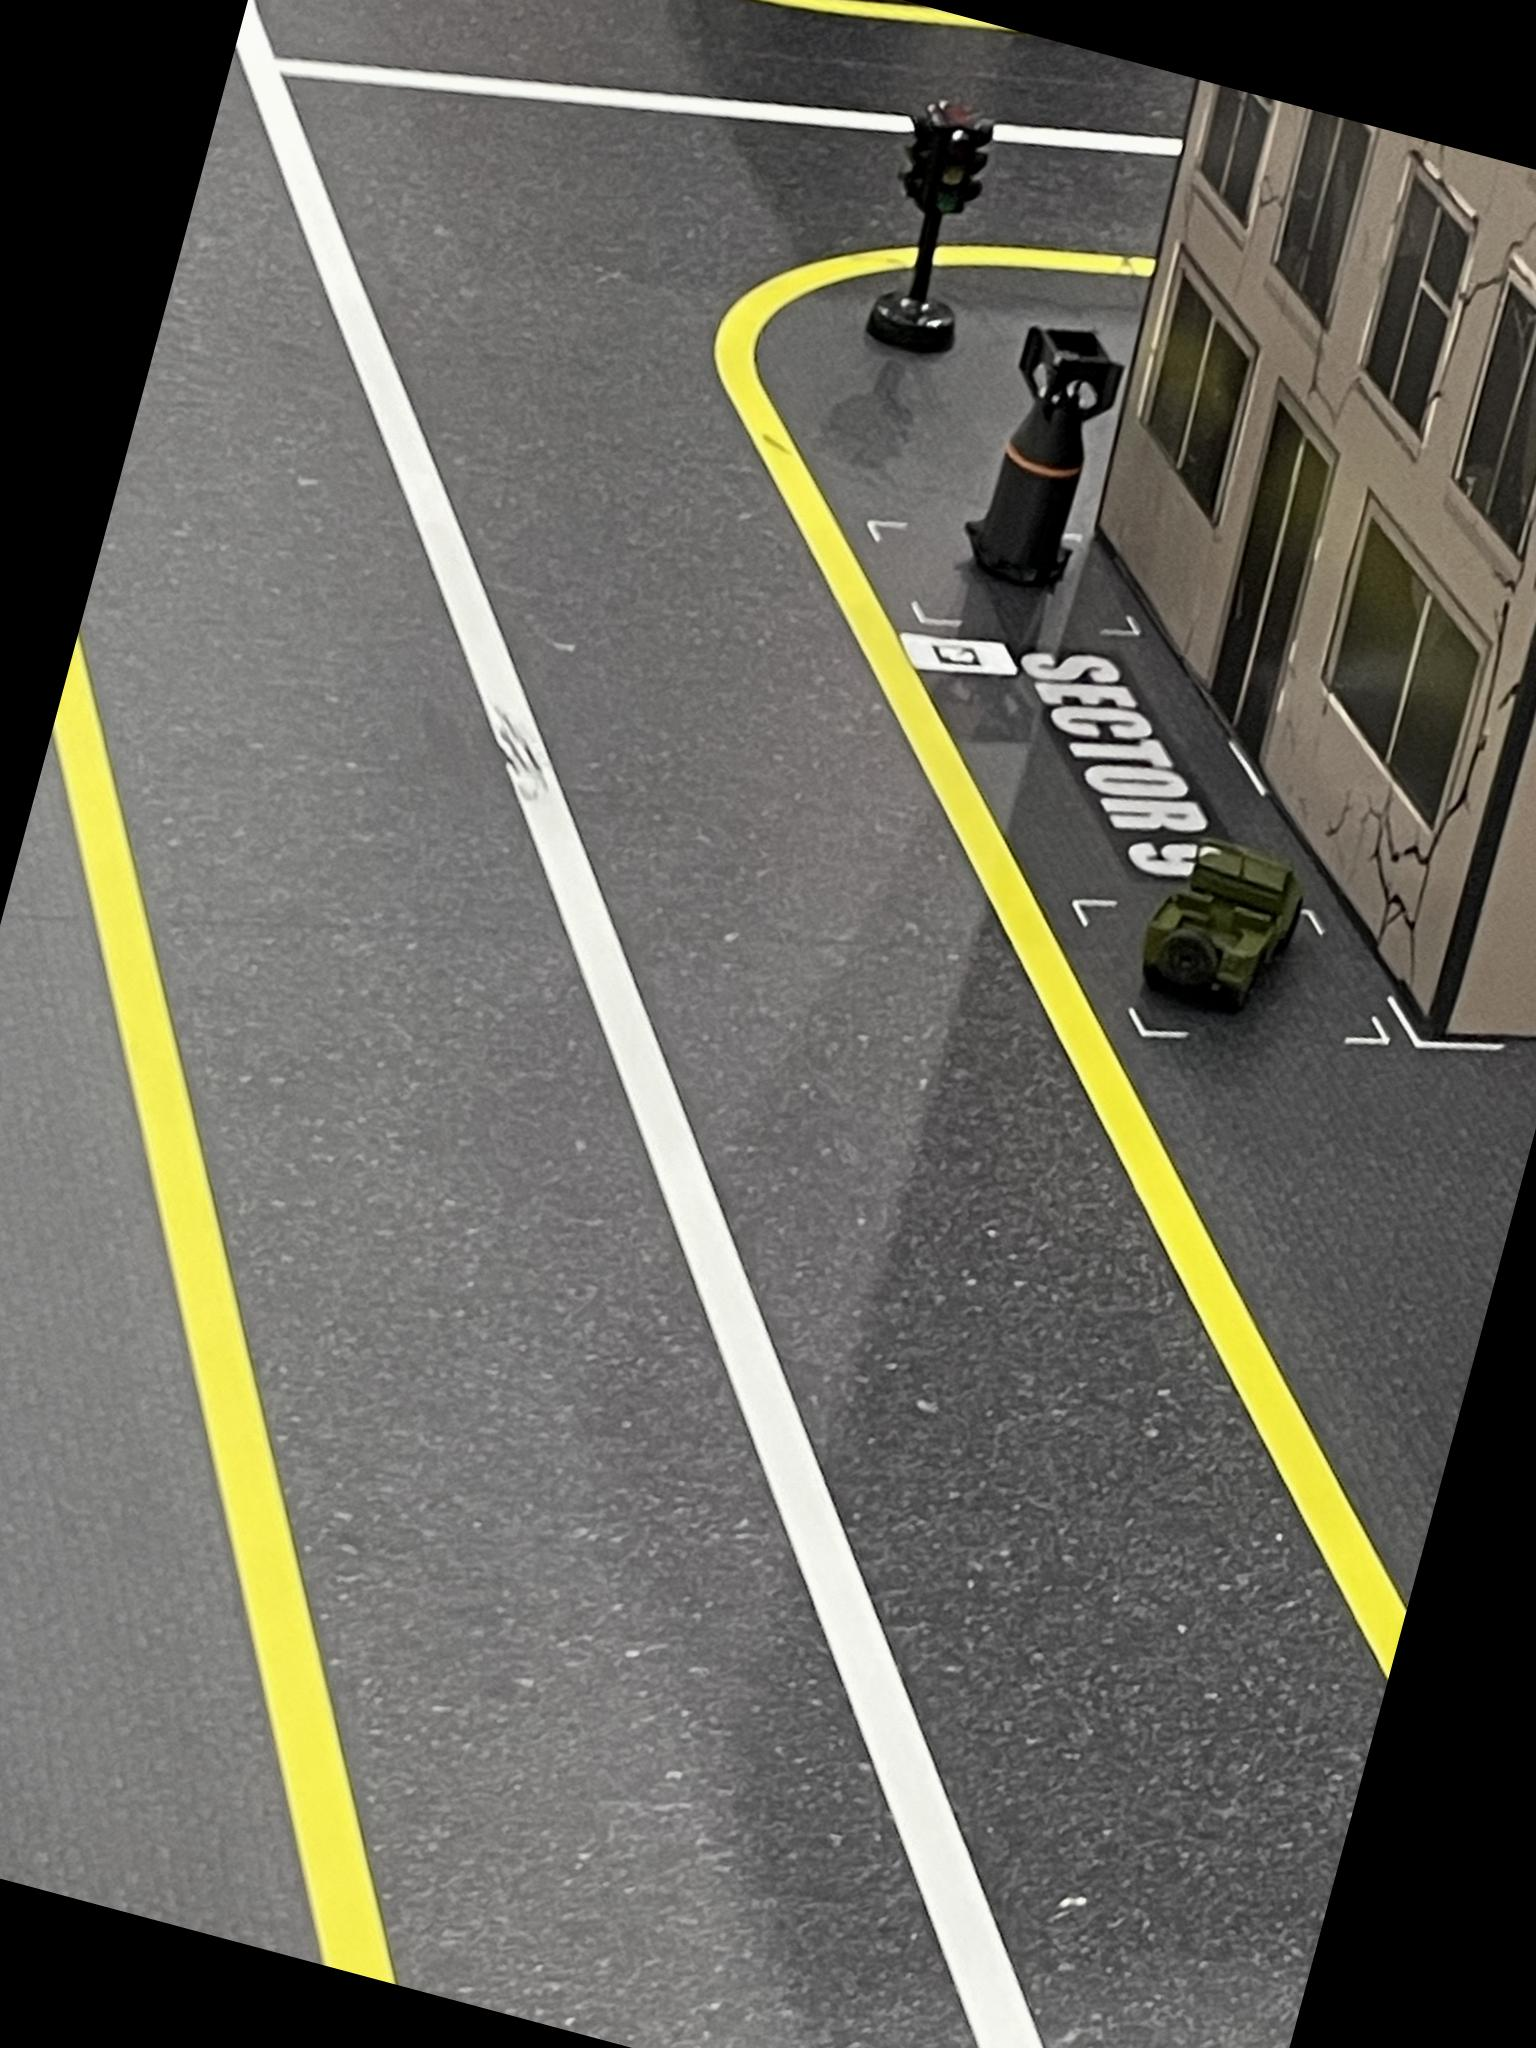Car: (1121, 834, 1317, 1048)
Missile: (955, 302, 1141, 606)
